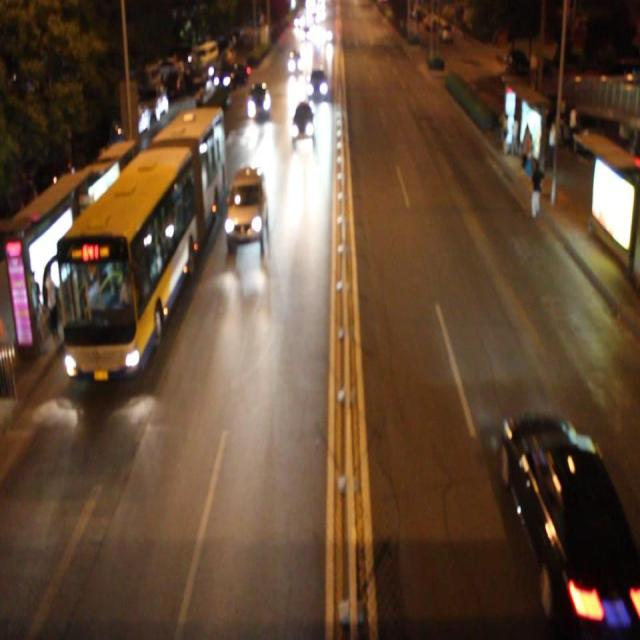car: (504, 411, 640, 628), (290, 99, 313, 142), (247, 81, 270, 122), (306, 65, 328, 103), (285, 48, 304, 76)
truck: (226, 167, 268, 243)
van: (54, 102, 219, 376)
